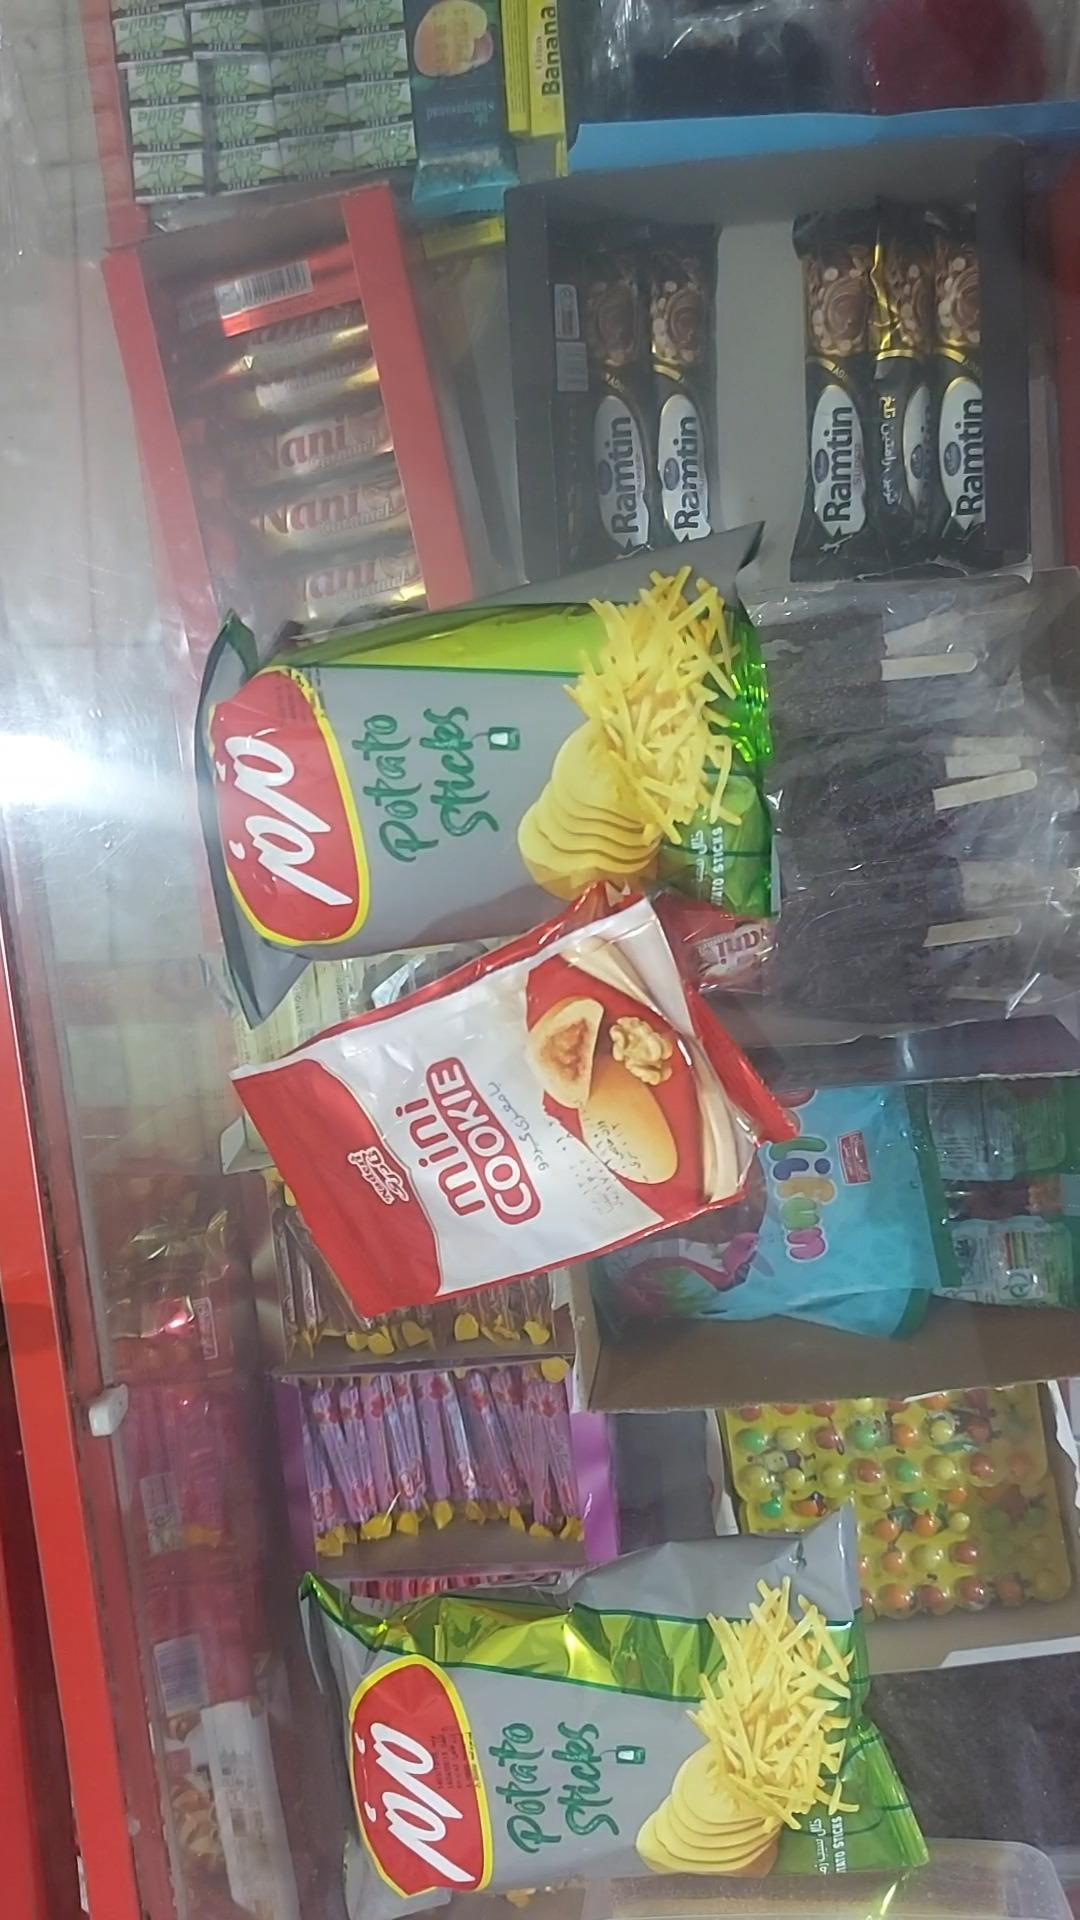Maz Maz potato sticks: (195, 526, 775, 1025), (301, 1507, 926, 1919)
Naderi mini cookie: (235, 886, 785, 1317)
